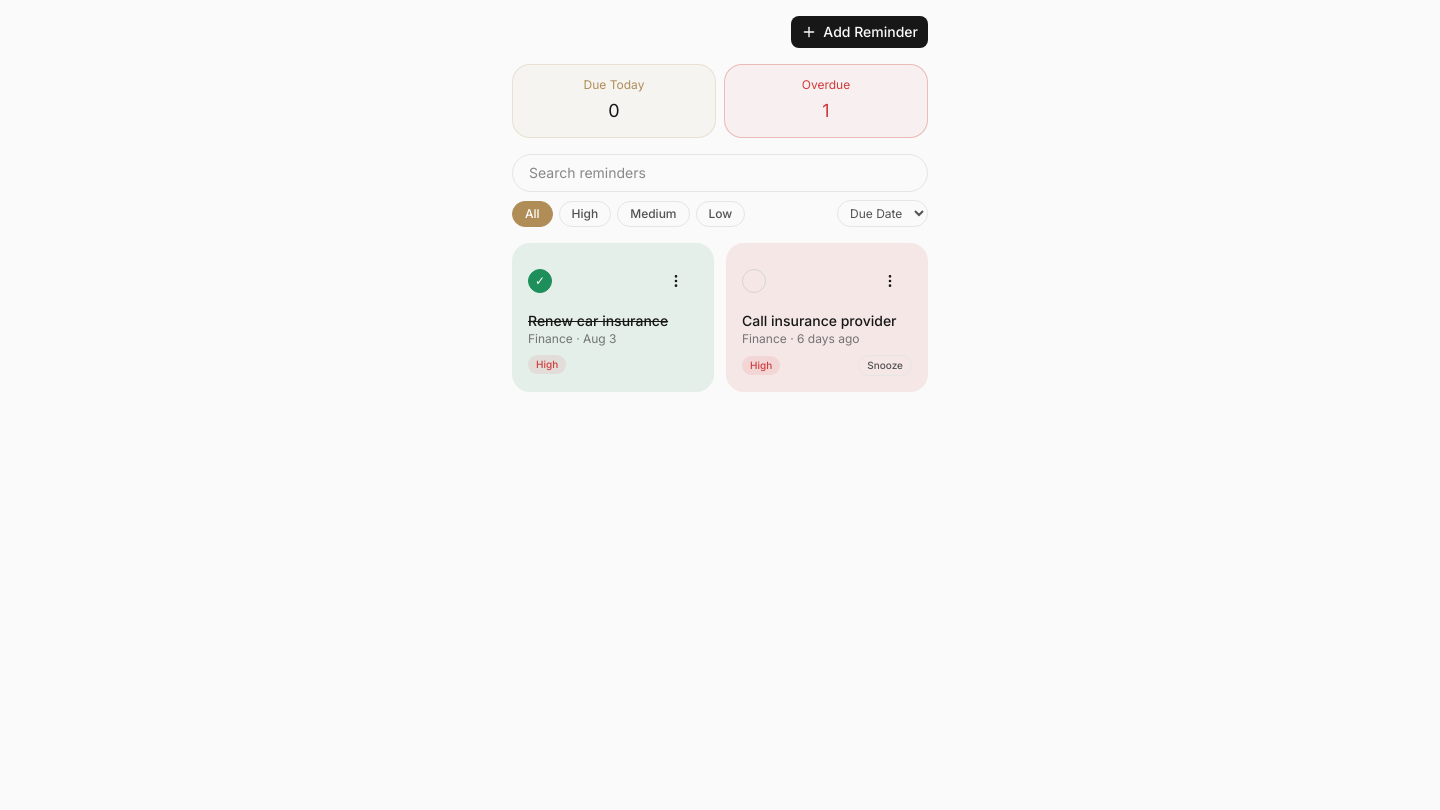
Test case: RemindersPage › opens the edit form pre-filled when a reminder row Edit is chosen from its actions menu
The width and height of the screenshot is (1440, 810).
Click the button named "actions for call insurance provider". click: (890, 281)
box: [868,259,912,303]
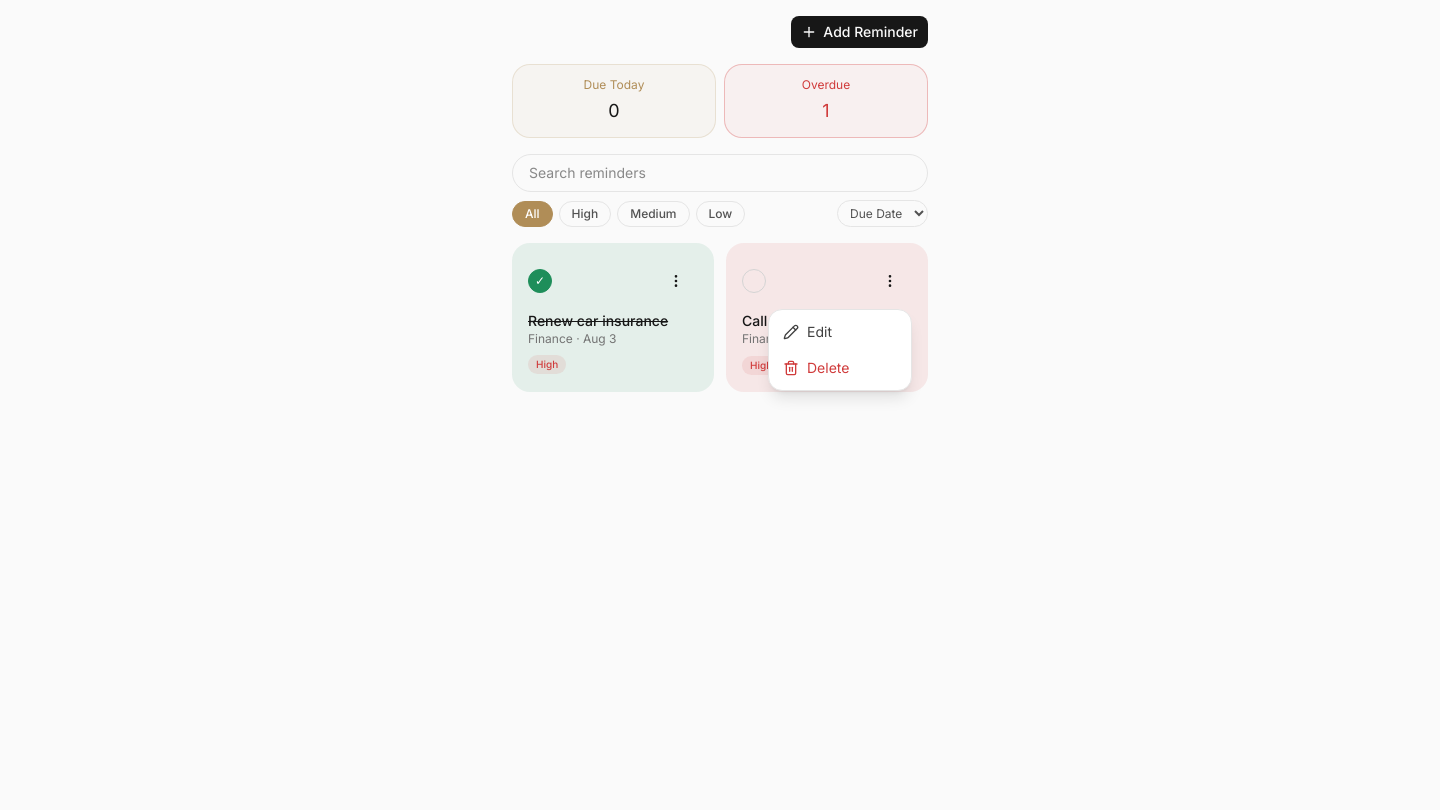
Click the menu item "Edit". click: (808, 332)
box: [783,323,832,340]
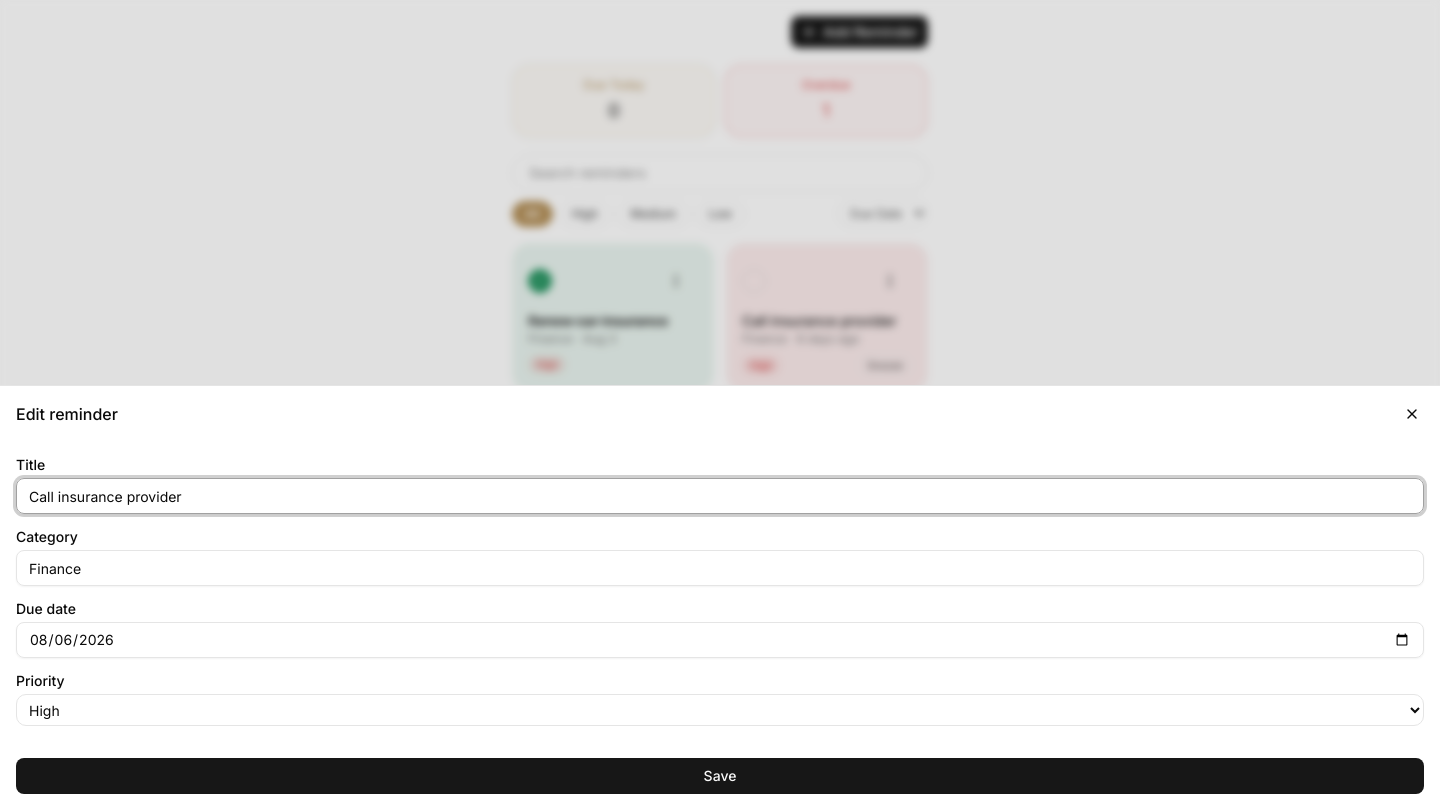
Expected: the heading "Edit reminder" is shown, [16,404,118,424]
Expected: the field labelled "Title" holds "Call insurance provider", [16,478,1424,514]
